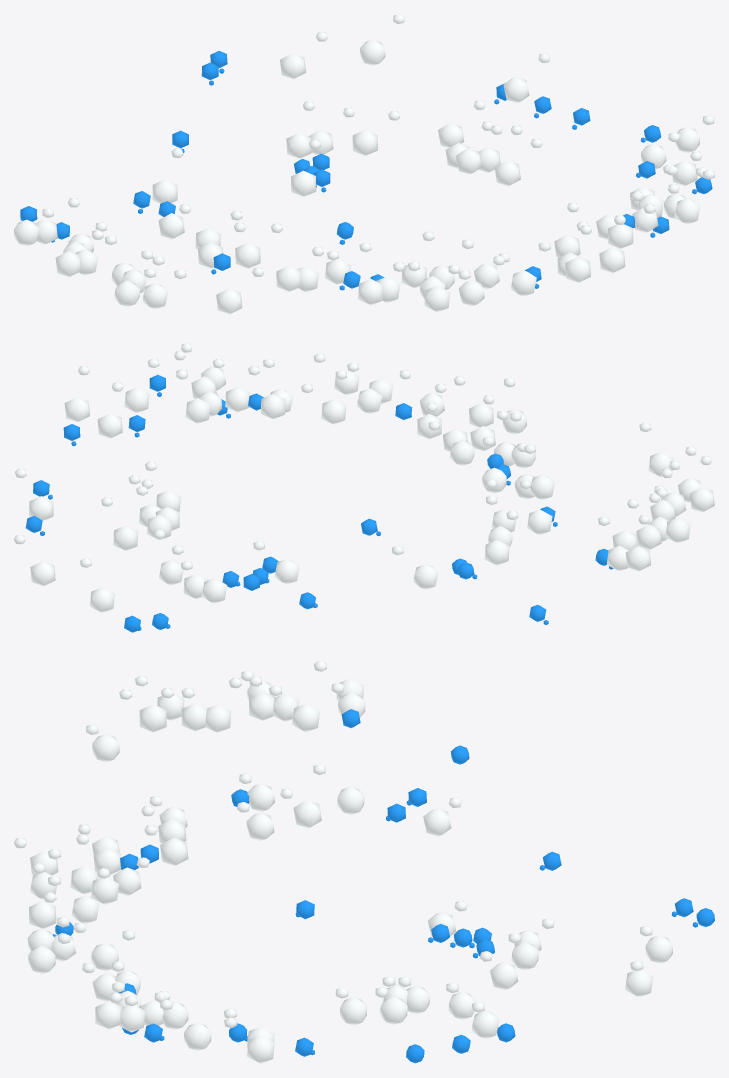
File: model_chunk_3.glb
The picture shows the model from 3 angles, top to bottom: view 1: azimuth 30°, elevation 25°; view 2: azimuth 150°, elevation 25°; view 3: azimuth 270°, elevation 25°; orthographic projection. The views are drawn at different scales.
Parts seen in each view (by area): view 1: SplashParticle01428, SplashParticle01336, SplashParticle01335, SplashParticle01343, SplashParticle01371, SplashParticle01396, SplashParticle01350, SplashParticle01086, SplashParticle01331, SplashParticle01400, SplashParticle01430, SplashParticle01390 (+30 smaller); view 2: SplashParticle01404, SplashParticle01442, SplashParticle01420, SplashParticle01395, SplashParticle01418, SplashParticle01353, SplashParticle01362, SplashParticle01458, SplashParticle01405, SplashParticle01423, SplashParticle01430, SplashParticle01323 (+29 smaller); view 3: SplashParticle01140, SplashParticle01358, SplashParticle01455, SplashParticle01423, SplashParticle01322, SplashParticle01331, SplashParticle01396, SplashParticle01441, SplashParticle01418, SplashParticle01426, SplashParticle01430, SplashParticle01440 (+24 smaller).
Boxes of the visible parts, box(x1,y1,x2,y2) form: SplashParticle01428: box(352, 111, 400, 156); SplashParticle01336: box(235, 223, 282, 268); SplashParticle01335: box(276, 246, 323, 291); SplashParticle01343: box(358, 262, 404, 305); SplashParticle01371: box(291, 139, 320, 197); SplashParticle01396: box(599, 215, 625, 273); SplashParticle01350: box(424, 270, 470, 312); SplashParticle01086: box(55, 230, 103, 277); SplashParticle01331: box(216, 267, 263, 314); SplashParticle01400: box(608, 204, 655, 249); SplashParticle01430: box(280, 32, 327, 79); SplashParticle01390: box(565, 225, 591, 282); SplashParticle01404: box(248, 366, 285, 419); SplashParticle01442: box(101, 497, 138, 550); SplashParticle01420: box(97, 382, 123, 438); SplashParticle01395: box(301, 383, 346, 424); SplashParticle01418: box(124, 358, 159, 413); SplashParticle01353: box(453, 376, 493, 427); SplashParticle01362: box(484, 510, 518, 565); SplashParticle01458: box(14, 535, 55, 586); SplashParticle01405: box(212, 358, 250, 412); SplashParticle01423: box(64, 366, 89, 422); SplashParticle01430: box(80, 558, 114, 612); SplashParticle01323: box(625, 515, 650, 571); SplashParticle01140: box(119, 689, 166, 732); SplashParticle01358: box(29, 892, 56, 928); SplashParticle01455: box(144, 825, 188, 866); SplashParticle01423: box(224, 1017, 274, 1063); SplashParticle01322: box(269, 685, 320, 732); SplashParticle01331: box(85, 724, 119, 762); SplashParticle01396: box(28, 933, 70, 973); SplashParticle01441: box(375, 987, 407, 1024); SplashParticle01418: box(160, 999, 211, 1051); SplashParticle01426: box(508, 933, 539, 970); SplashParticle01430: box(639, 925, 672, 963); SplashParticle01440: box(335, 988, 367, 1025).
Size of the model in its own units: 1.13 by 0.1827 by 0.9882.
1 material, 1 textured.
